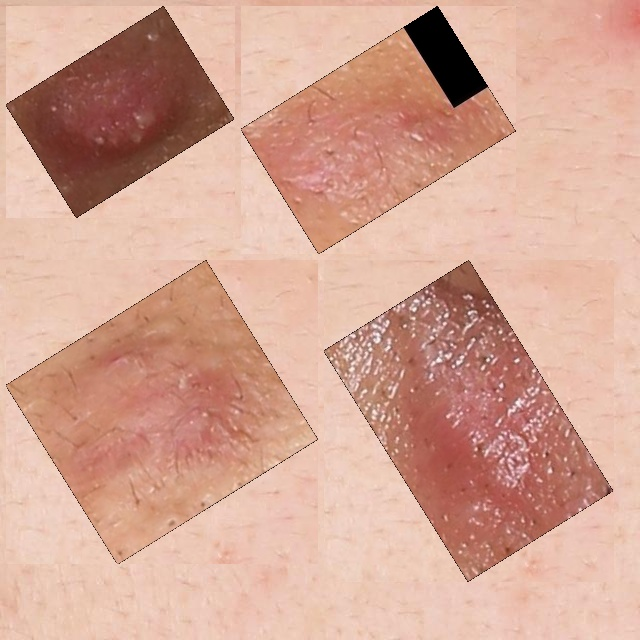nodule: (17, 271, 307, 553), (335, 271, 602, 570), (252, 17, 505, 243), (17, 17, 223, 206)
